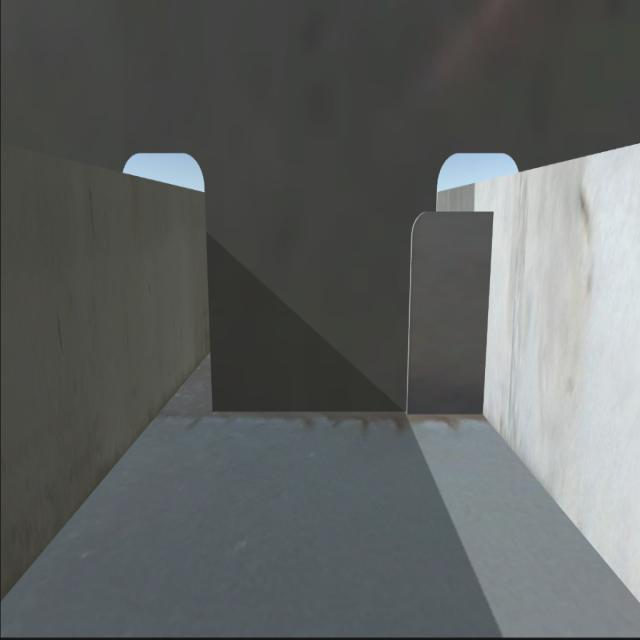fillet_yong_jeop_jang: (210, 399, 484, 421)
longi_yong_jeop_jang: (477, 210, 492, 411)
plate_CP05: (404, 206, 489, 410)
